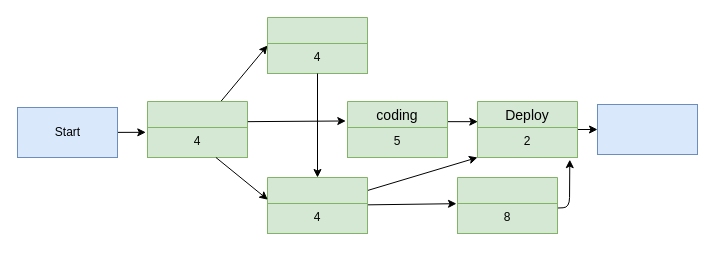
This 715x254 diagram has some shape labels left out. The box of each missing label's shape, as (x1, y1, x2, y2) in pixels:
Design: (266, 16, 368, 74)
Finish: (596, 104, 698, 154)
Requirement: (146, 100, 248, 158)
Testing: (456, 176, 558, 234)
UI: (266, 176, 368, 234)
